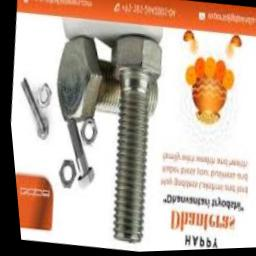Non-corroded-Bolts: (107, 34, 160, 244), (55, 35, 120, 179), (145, 82, 157, 120)
